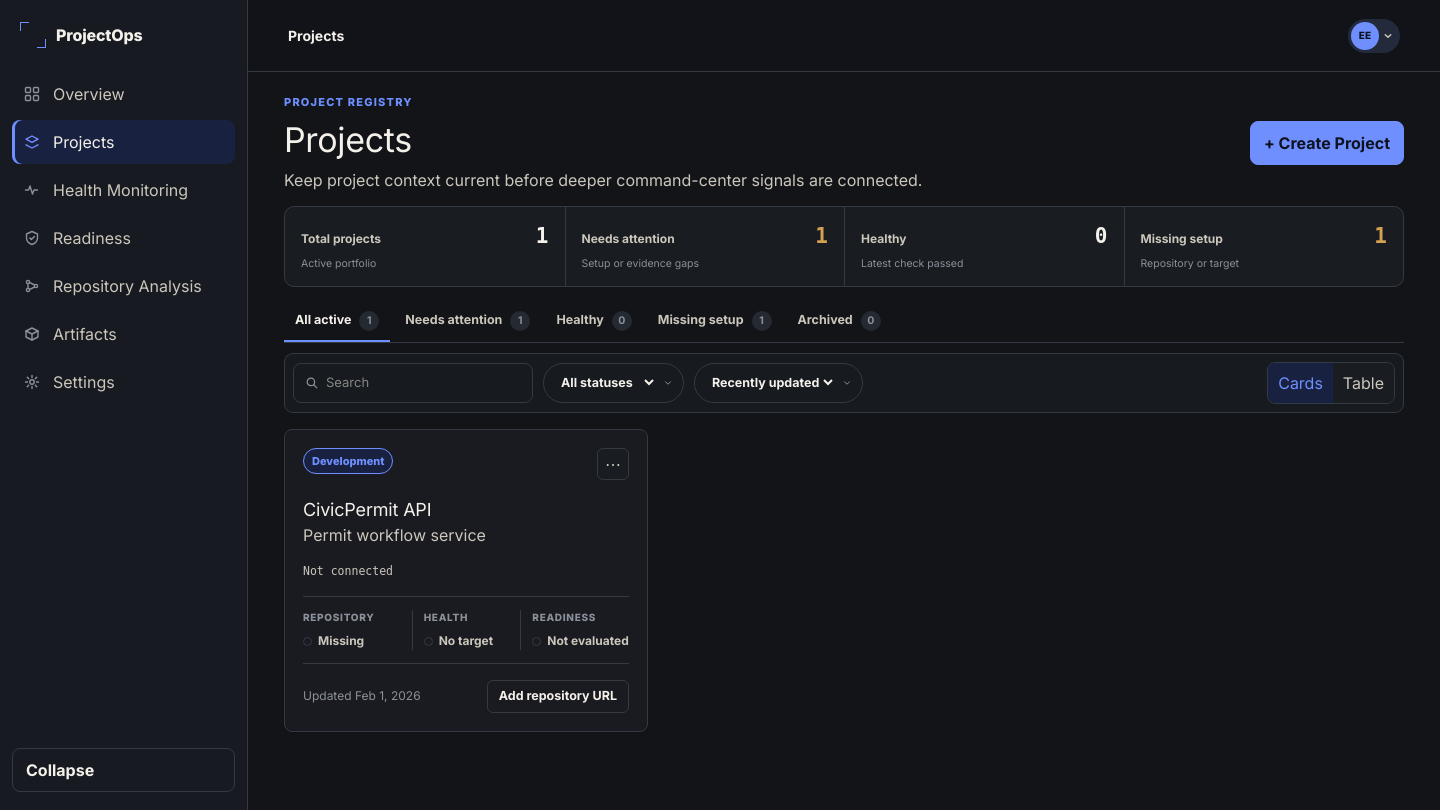
it: Archive Project flow › opens a confirmation that names the Project
Click the button named "More actions for CivicPermit API" at [613, 464], box [597,448,629,480]
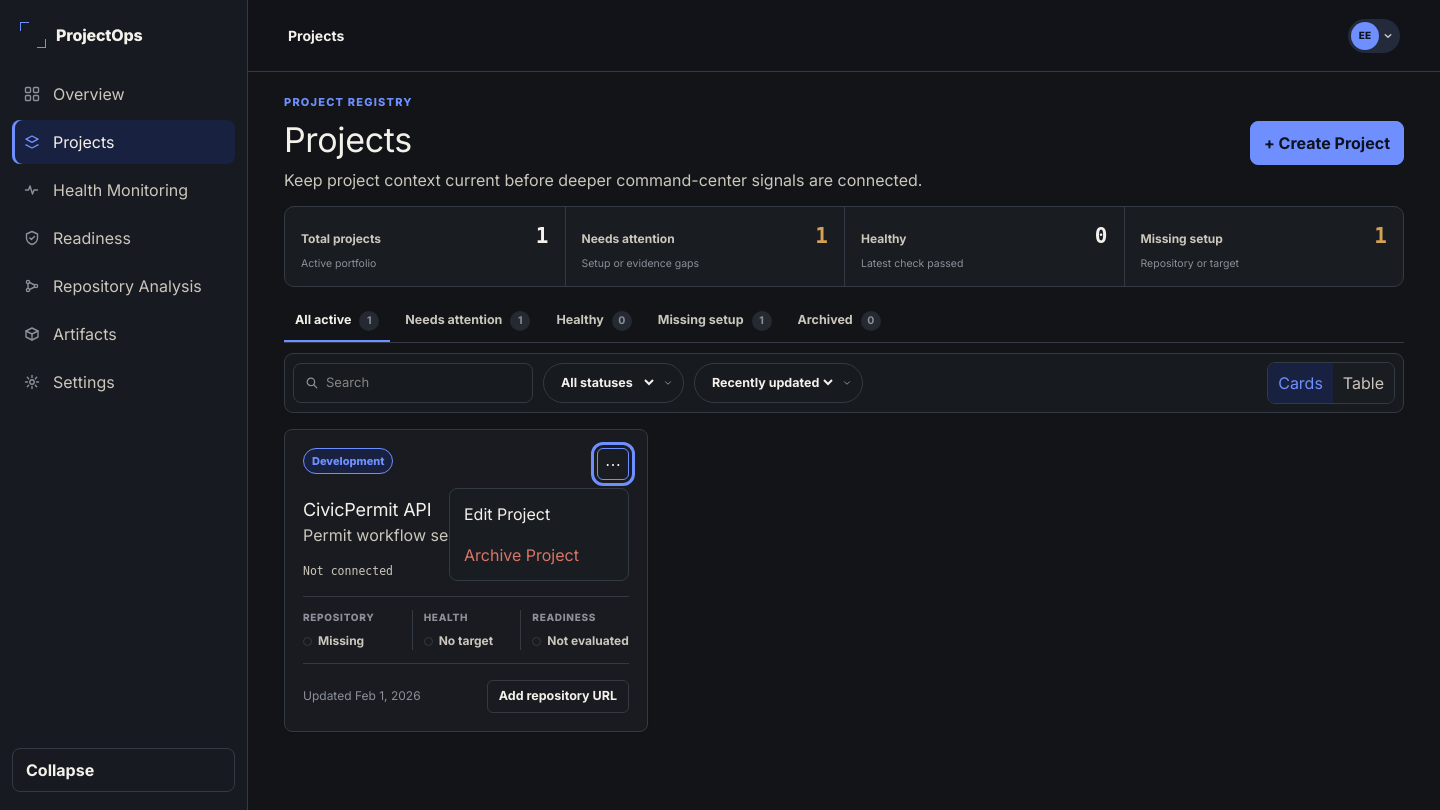
Click the menu item "Archive Project" at [539, 555], box [455,535,623,575]
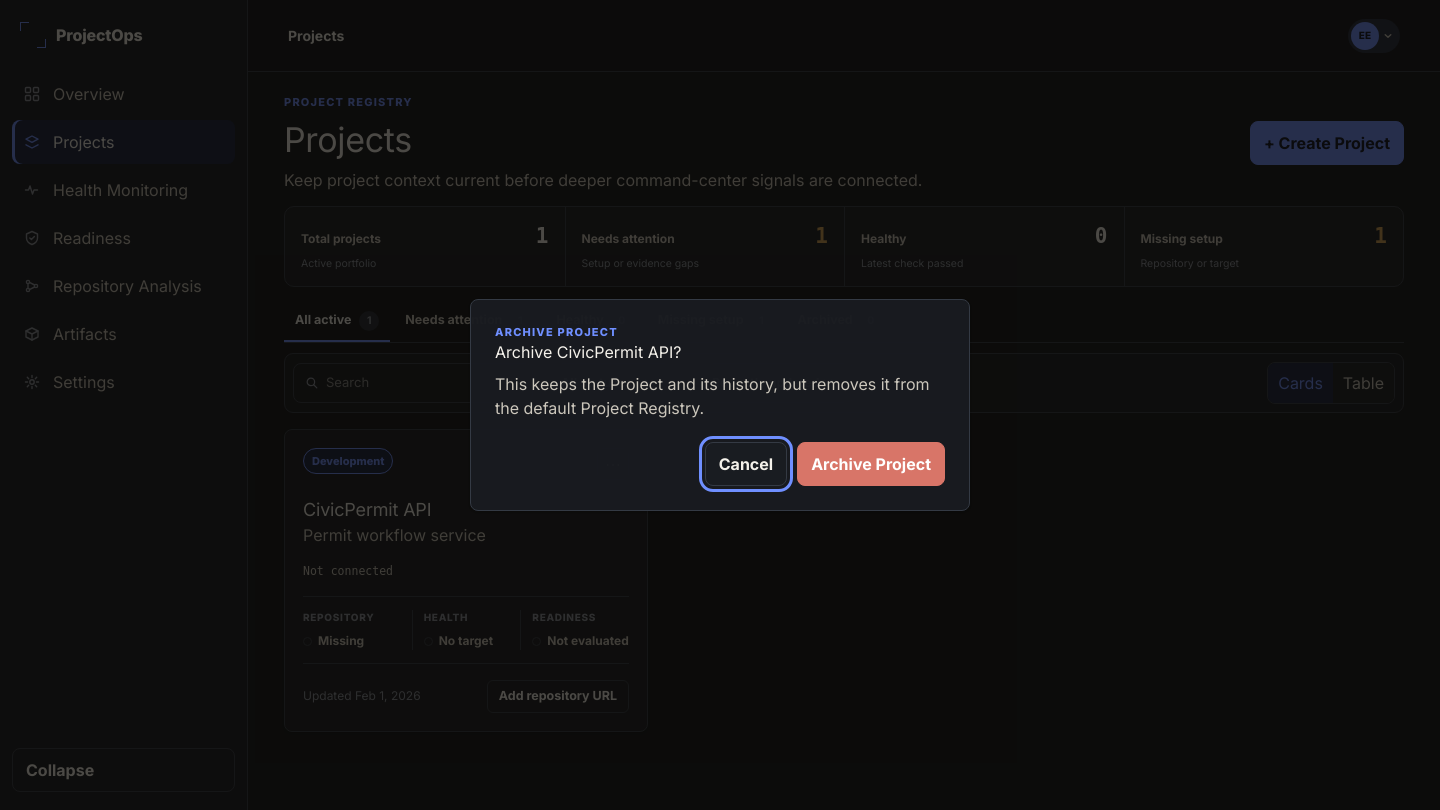
expect the heading "Archive CivicPermit API?" is shown: met, box [495,342,682,362]
